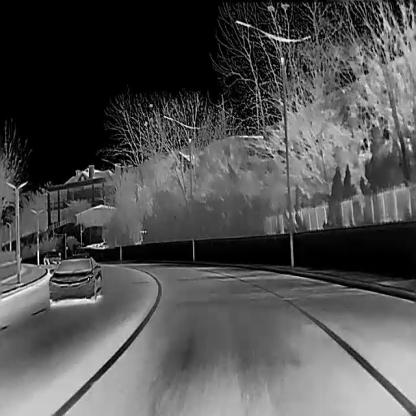car: (46, 255, 103, 303), (43, 250, 61, 264)
